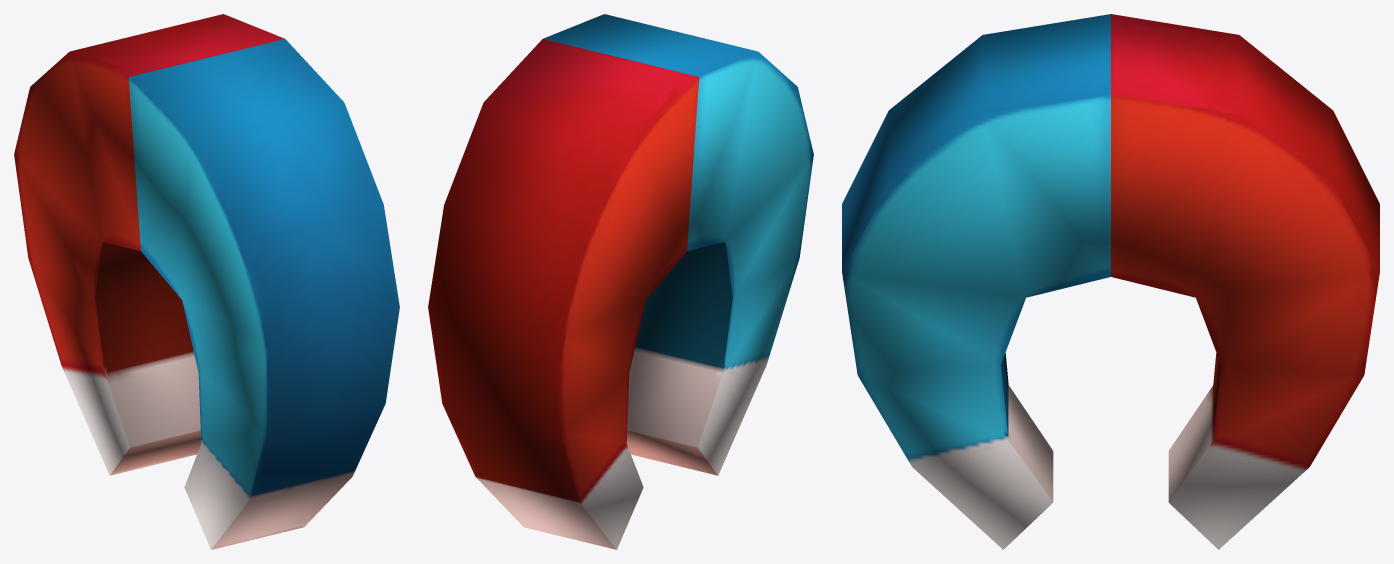
Rendered from daoju10.FBX.
3 views of the same model, side by side, from view 1: azimuth 30°, elevation 25°; view 2: azimuth 150°, elevation 25°; view 3: azimuth 270°, elevation 25° (orthographic). The views are drawn at different scales.
Parts seen in each view (by area): view 1: daoju05; view 2: daoju05; view 3: daoju05.
Boxes of the visible parts, x1=… form: daoju05: x1=14, y1=14, x2=399, y2=549; daoju05: x1=428, y1=14, x2=813, y2=549; daoju05: x1=842, y1=14, x2=1379, y2=549.
Bounding box in the file's own units: 33.41 × 90.45 × 93.55.
